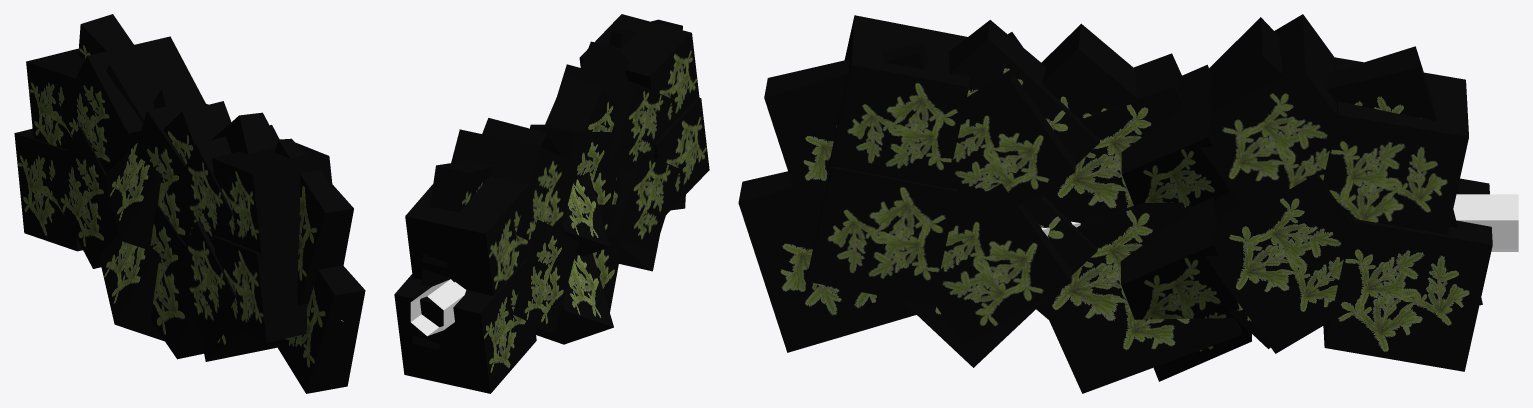
The model's file is branch_leaves.fbx.
3 renders of one model, left to right at view 1: azimuth 30°, elevation 25°; view 2: azimuth 150°, elevation 25°; view 3: azimuth 270°, elevation 25°, orthographic. The views are drawn at different scales.
Parts seen in each view (by area): view 1: branch_leaves; view 2: branch_leaves; view 3: branch_leaves.
Part boxes in pixels (x1,y1,x2,y2): branch_leaves: [14, 14, 365, 393]; branch_leaves: [394, 14, 709, 393]; branch_leaves: [738, 14, 1518, 393].
Size of the model in its own units: 584 by 1276 by 2440.
